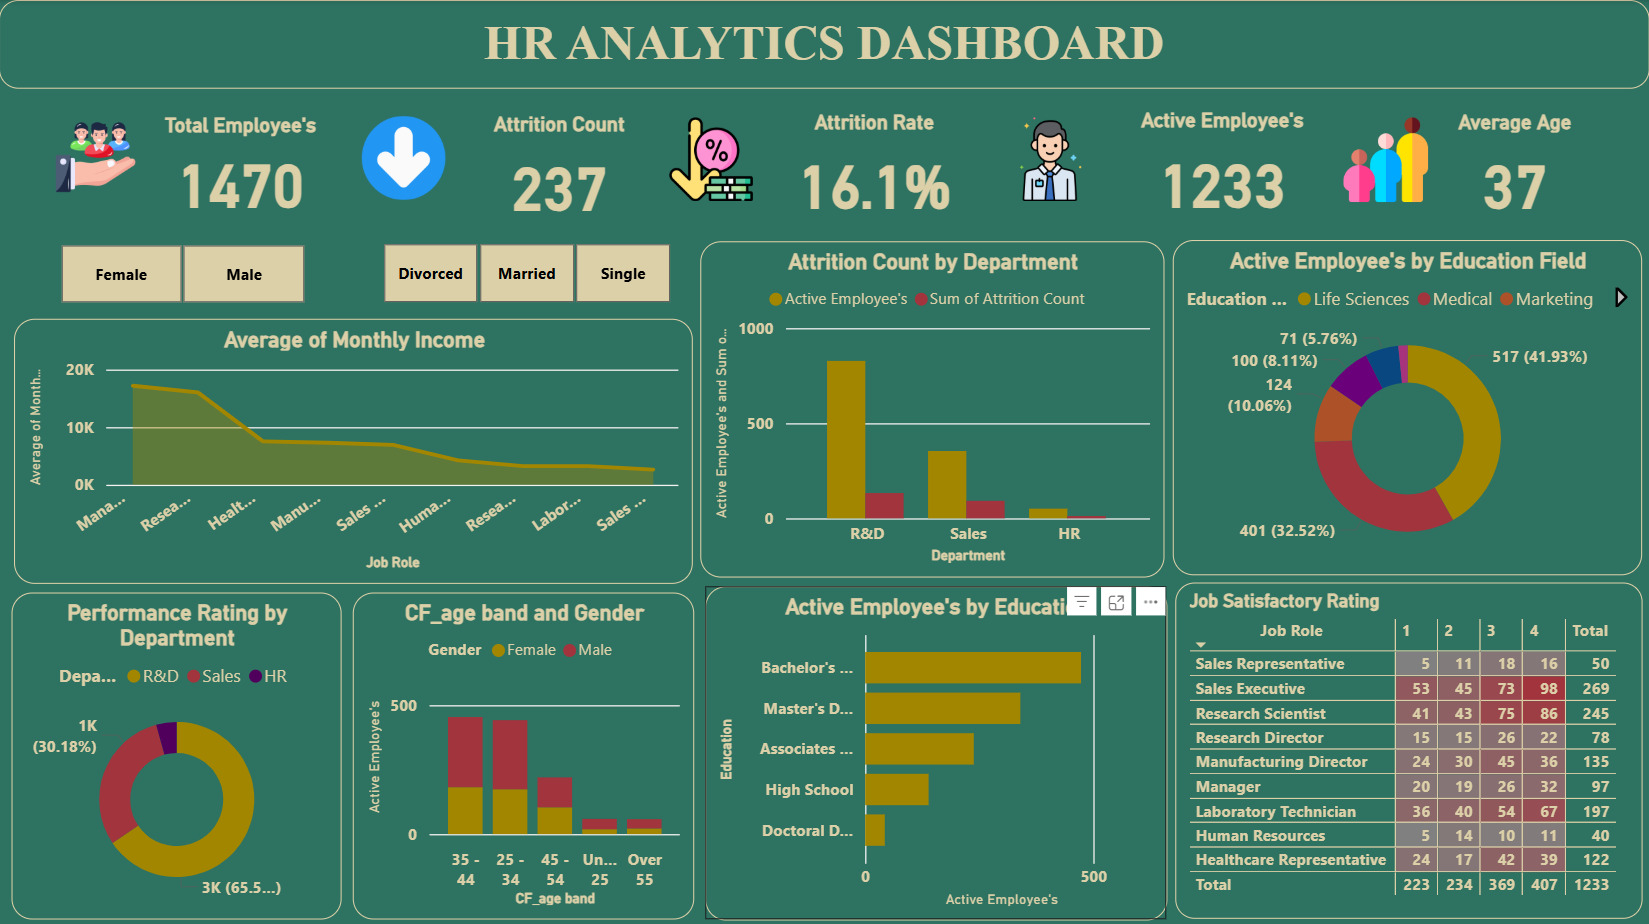

This screenshot's page, from the dashboard's own definition file:
{"tool":"powerbi","page":{"name":"Page 1","canvas":[1280,720],"ordinal":0},"visuals":[{"type":"card","title":"Total Employee''s","fields":{"Values":["Sum(HR data.Employee Count)"]},"box":[116.1,88.8,142,85],"z":0,"group":"g1"},{"type":"clusteredColumnChart","title":"Attrition Count  by Department","fields":{"Category":["HR data.Department"],"Y":["HR data.Active Employee's","Sum(HR data.Attrition Count )"]},"box":[543.7,187.2,359.8,260.5],"z":0},{"type":"card","title":"Attrition Rate","fields":{"Values":["HR data.Attrition rate"]},"box":[587.6,86.1,182.9,92],"z":1000,"group":"g1"},{"type":"donutChart","fields":{"Category":["HR data.Education Field"],"Y":["HR data.Active Employee's"]},"box":[910.5,186.5,364,260],"z":1000},{"type":"card","title":"Active Employee''s","fields":{"Values":["HR data.Active Employee's"]},"box":[857.2,84.7,181.8,92],"z":2000,"group":"g1"},{"type":"columnChart","title":" CF_age band and Gender","fields":{"Category":["HR data.CF_age band"],"Y":["HR data.Active Employee's"],"Series":["HR data.Gender"]},"box":[274.4,459.3,265.1,254],"z":2000},{"type":"card","title":"Average Age","fields":{"Values":["Avg(HR data.Age)"]},"box":[1084,85.8,181.8,92],"z":3000,"group":"g1"},{"type":"pivotTable","title":"Job Satisfactory Rating","fields":{"Rows":["HR data.Job Role"],"Values":["HR data.Active Employee's"],"Columns":["HR data.Job Satisfaction"]},"box":[912.3,452.1,362.1,260.7],"z":3000},{"type":"card","title":"Attrition Count","fields":{"Values":["Sum(HR data.Attrition Count )"]},"box":[343.4,87.4,182.9,92],"z":4000,"group":"g1"},{"type":"donutChart","title":"Performance Rating by Department","fields":{"Category":["HR data.Department"],"Y":["Sum(HR data.Performance Rating)"]},"box":[9.3,459.3,255.8,254],"z":4000},{"type":"image","box":[34.7,85.2,80.2,75.6],"z":5000,"group":"g1"},{"type":"clusteredBarChart","fields":{"Category":["HR data.Education"],"Y":["HR data.Active Employee's"]},"box":[547.4,454.4,358.1,259.3],"z":5000},{"type":"image","box":[273.1,85.9,80.2,74.4],"z":6000,"group":"g1"},{"type":"areaChart","title":"Average of Monthly Income","fields":{"Category":["HR data.Job Role"],"Y":["Avg(HR data.Monthly Income)"]},"box":[11.6,247,526.7,205.3],"z":6000},{"type":"image","box":[511.4,87,80.2,74.4],"z":7000,"group":"g1"},{"type":"slicer","fields":{"Values":["HR data.Gender"]},"box":[21.9,183.5,238.4,58.1],"z":7000},{"type":"image","box":[774.2,87,80.2,74.4],"z":8000,"group":"g1"},{"type":"slicer","fields":{"Values":["HR data.Marital Status"]},"box":[272.1,182.6,272.1,59.3],"z":8000},{"type":"textbox","box":[0,0,1280.2,68.6],"z":9000},{"type":"image","box":[1035.9,87,79.1,75.6],"z":9000,"group":"g1"},{"type":"group","id":"g1","title":"Group 1","box":[34.7,84.7,1231.2,94.7],"z":10000}]}

Visuals, with their boxes in screenshot pixels (x1, y1, x2, y2), scaled from the page's 1280x720 canvas onto the 1649x924 screenshot:
"Total Employee''s" card: locate(150, 114, 333, 223)
"Attrition Count  by Department" clusteredColumnChart: locate(700, 240, 1164, 575)
"Attrition Rate" card: locate(757, 110, 993, 229)
donutChart - HR data.Education Field x HR data.Active Employee's: locate(1173, 239, 1642, 573)
"Active Employee''s" card: locate(1104, 109, 1339, 227)
" CF_age band and Gender" columnChart: locate(354, 589, 695, 915)
"Average Age" card: locate(1396, 110, 1631, 228)
"Job Satisfactory Rating" pivotTable: locate(1175, 580, 1642, 915)
"Attrition Count" card: locate(442, 112, 678, 230)
"Performance Rating by Department" donutChart: locate(12, 589, 342, 915)
image: locate(45, 109, 148, 206)
clusteredBarChart - HR data.Education x HR data.Active Employee's: locate(705, 583, 1167, 916)
image: locate(352, 110, 455, 206)
"Average of Monthly Income" areaChart: locate(15, 317, 693, 580)
image: locate(659, 112, 762, 207)
slicer - HR data.Gender: locate(28, 235, 335, 310)
image: locate(997, 112, 1101, 207)
slicer - HR data.Marital Status: locate(351, 234, 701, 310)
textbox: locate(0, 0, 1648, 88)
image: locate(1335, 112, 1436, 209)
"Group 1" group: locate(45, 109, 1631, 230)
